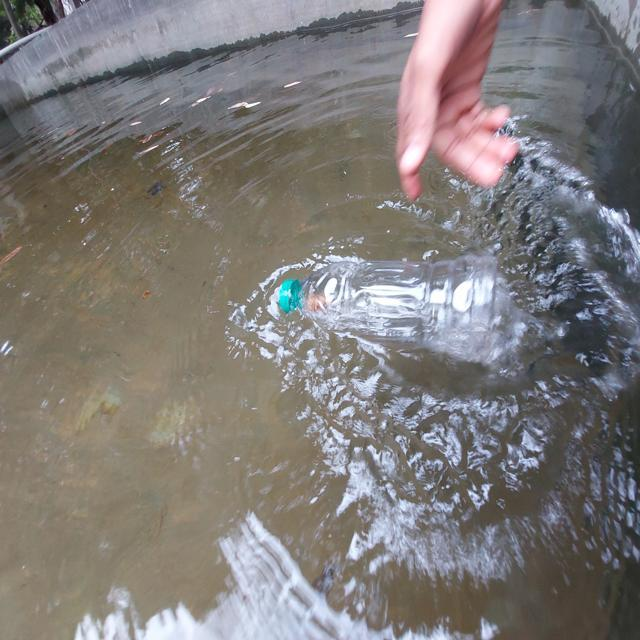waterbottle: (253, 246, 513, 364)
